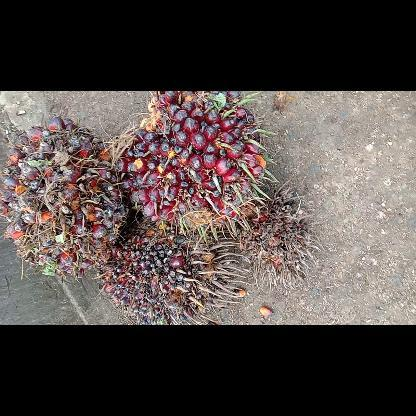TBS abnormal: (96, 212, 252, 324), (235, 181, 323, 290)
TBS masak: (109, 92, 275, 242), (0, 113, 130, 280)
